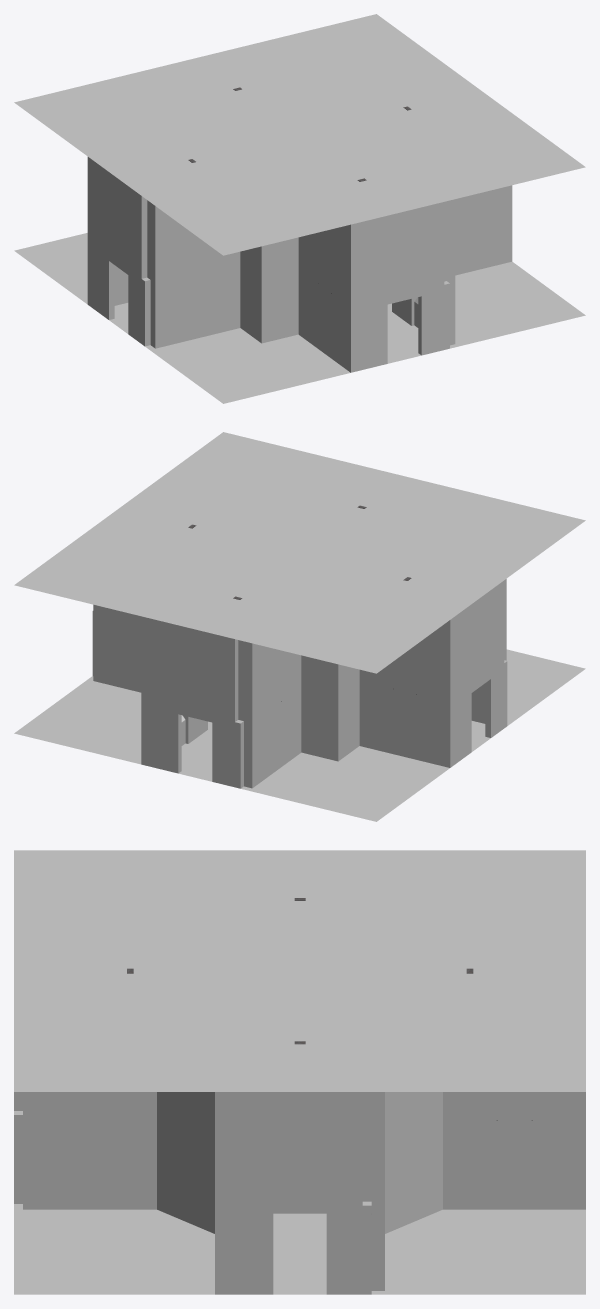
File: LC_room4.obj
The picture shows the model from 3 angles, top to bottom: view 1: azimuth 30°, elevation 25°; view 2: azimuth 150°, elevation 25°; view 3: azimuth 270°, elevation 25°; orthographic projection. The views are drawn at different scales.
Visible parts, largest first — view 1: LC_room4; view 2: LC_room4; view 3: LC_room4.
Boxes of the visible parts, left/top/right/bottom form: LC_room4: left=14, top=14, right=585, bottom=403; LC_room4: left=14, top=432, right=585, bottom=821; LC_room4: left=14, top=850, right=585, bottom=1294.
Size of the model in its own units: 20.48 by 8.01 by 20.48.
